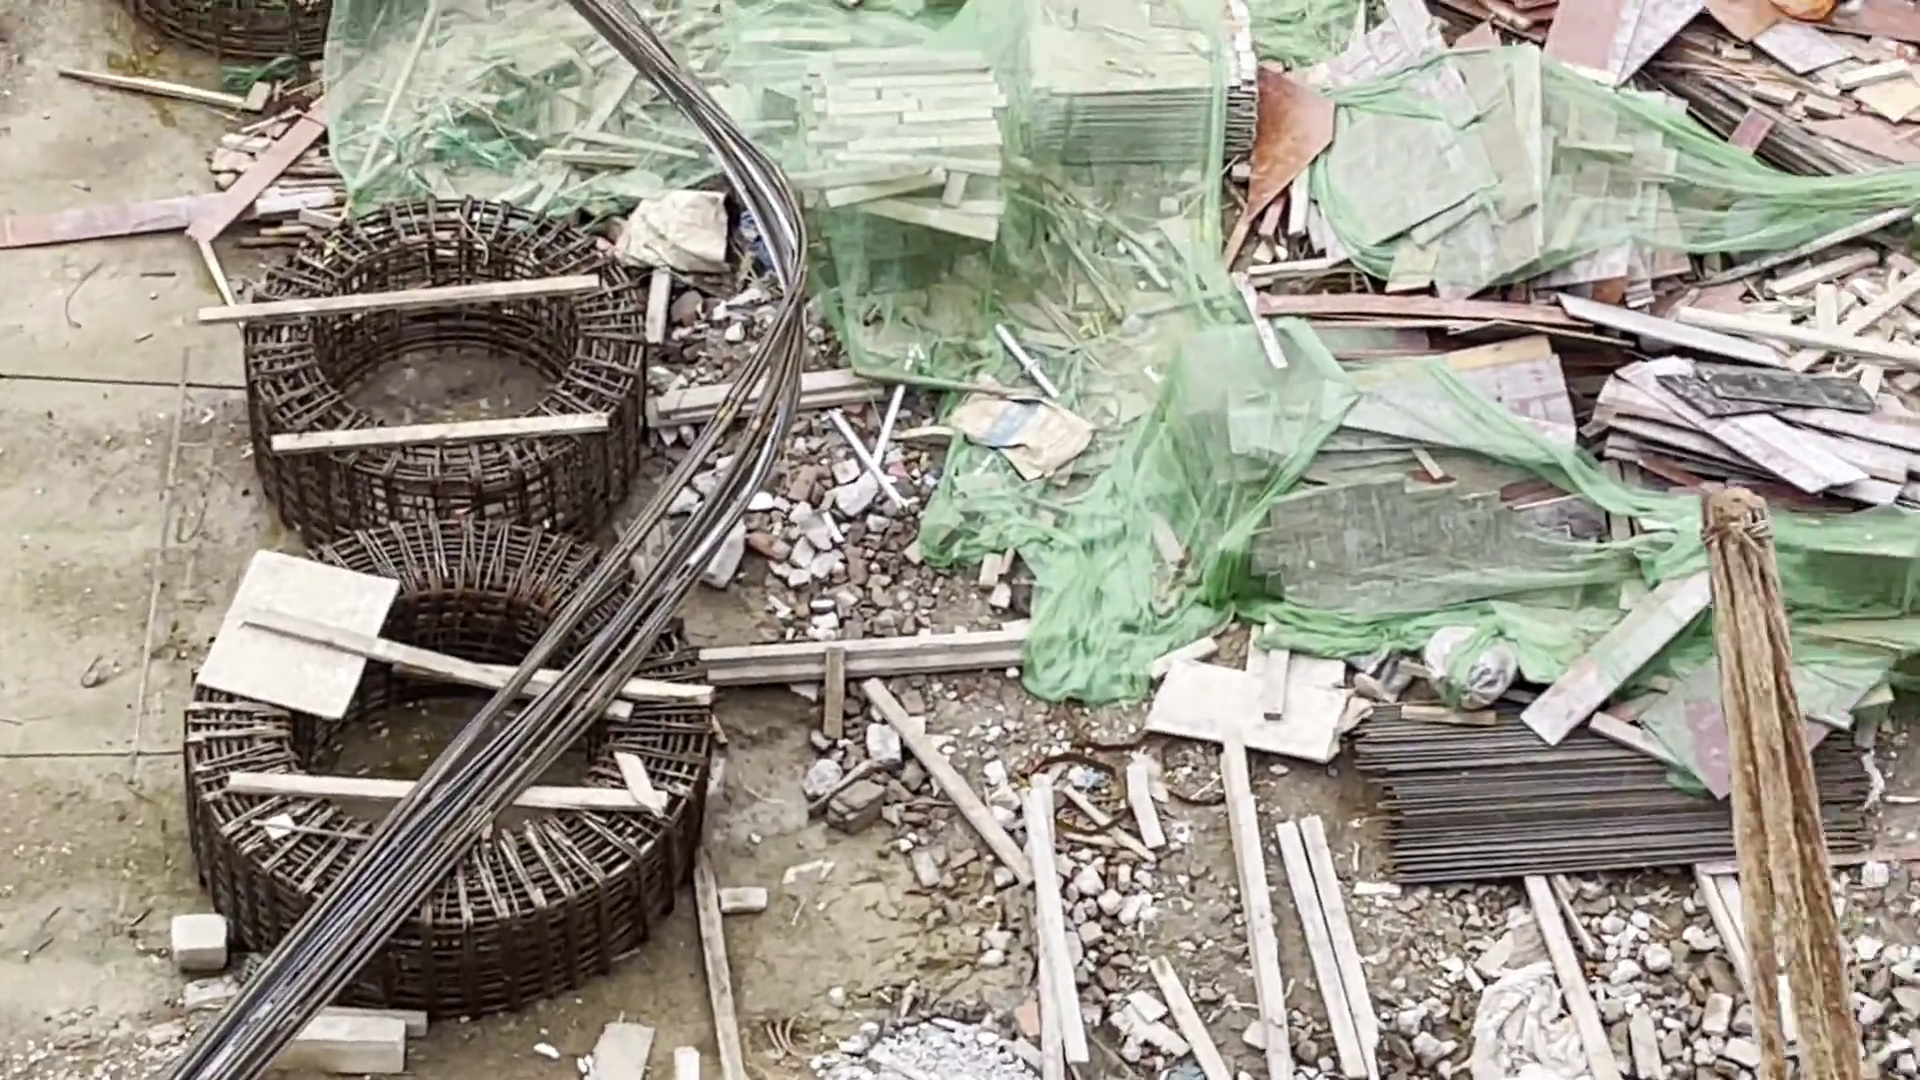wood: (820, 20, 1244, 237)
